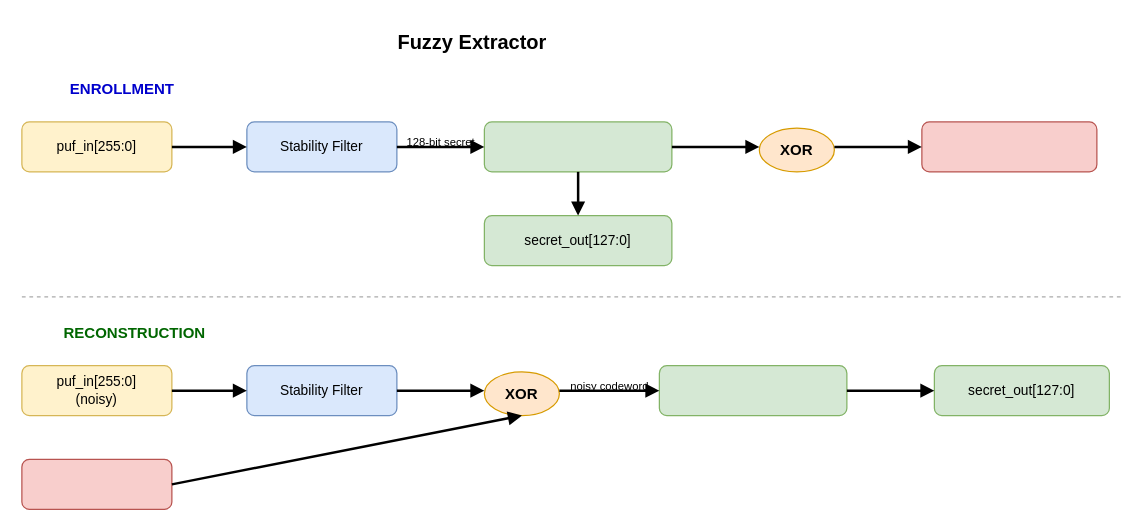
Some shapes in this 1145 by 531 pixel diagram are drawn without their labels. Here are the shapes that lost their labels. From the top down, the box of each, then its label:
(483, 121, 672, 172): BCH Encoder (8 blocks × 16 bits)
(921, 121, 1097, 172): helper_out[247:0] (stored on card)
(658, 364, 847, 416): BCH Decoder (8 blocks × 31 bits)
(21, 458, 172, 509): helper_in[247:0]
